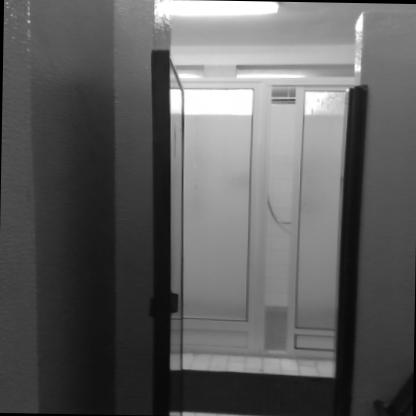open: (88, 59, 376, 416)
